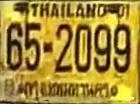0: (74, 23, 90, 71)
2: (55, 23, 72, 72)
5: (24, 22, 42, 70)
6: (6, 22, 23, 70)
9: (93, 23, 110, 72), (114, 23, 131, 72)
BKK: (23, 78, 113, 103)
